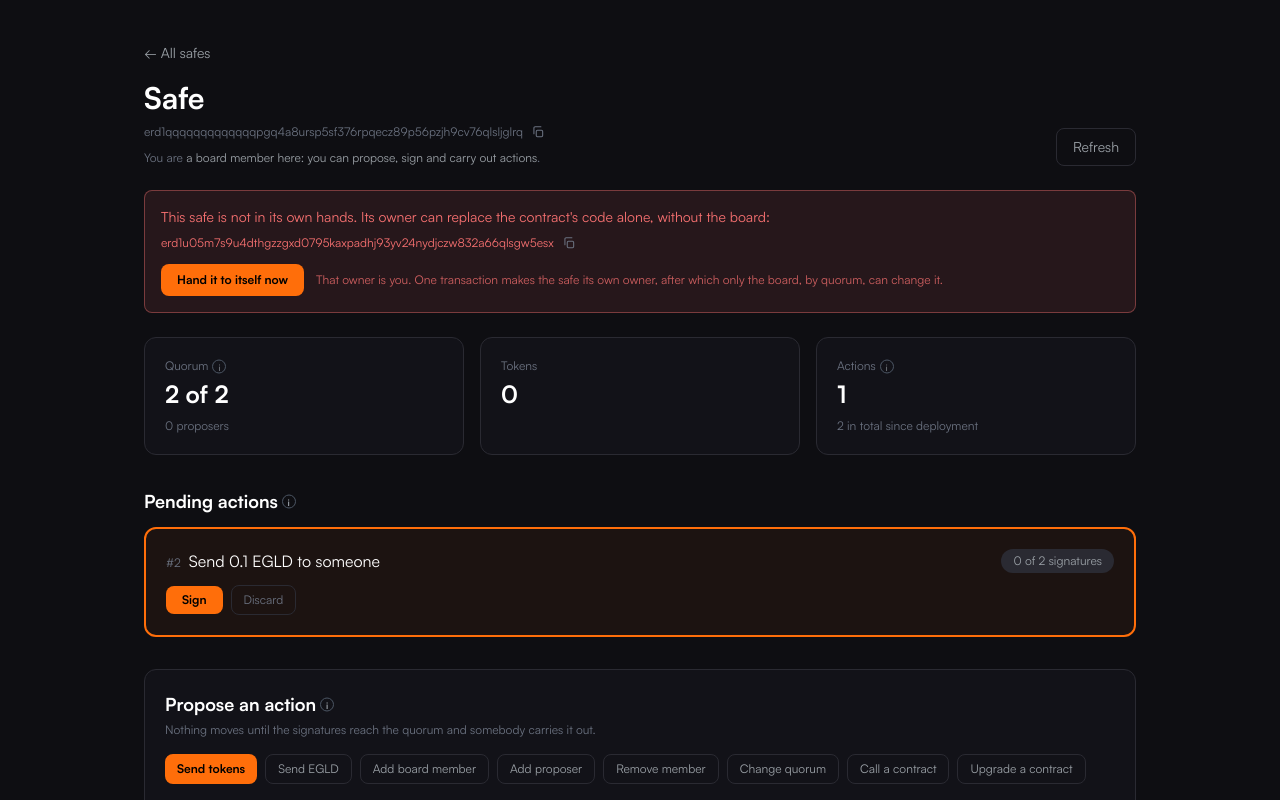
Test: a handover whose wallet never answers offers "start over", which releases the page
Check: the text "Send 0.1 EGLD to someone" is shown, box [189,551,380,571]
Click the button "Hand it to itself now": (232, 280) [161,264,304,296]
Wait 25000 ms
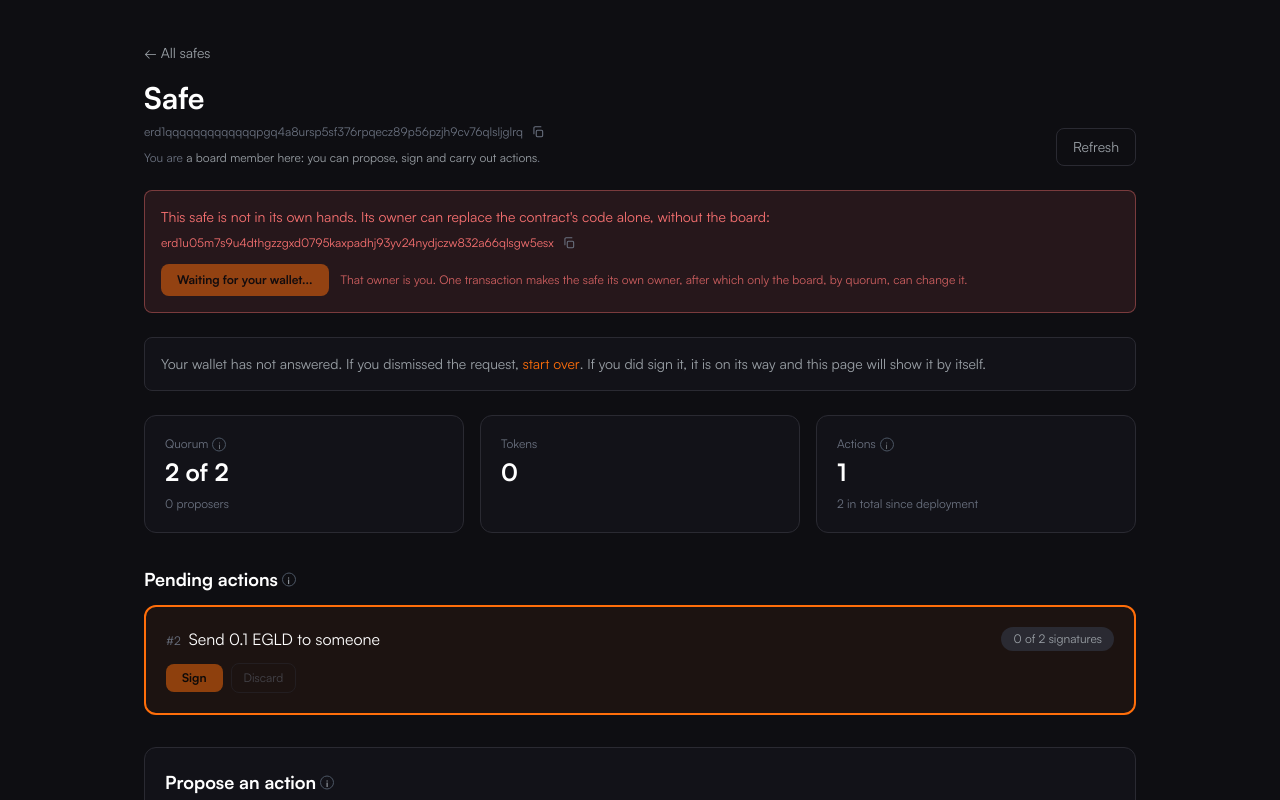
Check: the button "Sign" is disabled, box [166,664,222,692]
Click the button "start over": (551, 364) [523,354,580,374]
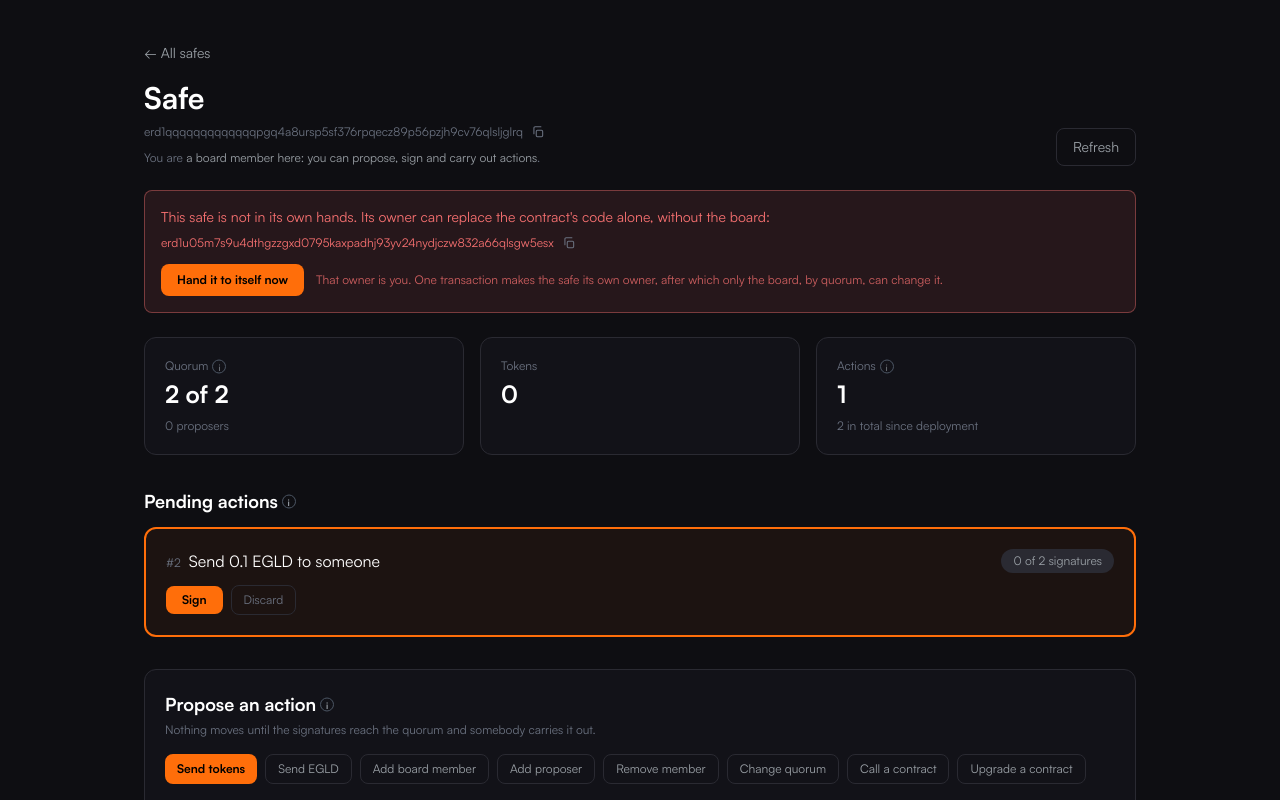
Check: the button "Sign" is enabled, box [166,586,222,614]
Check: the button "Hand it to itself now" is enabled, box [161,264,304,296]
